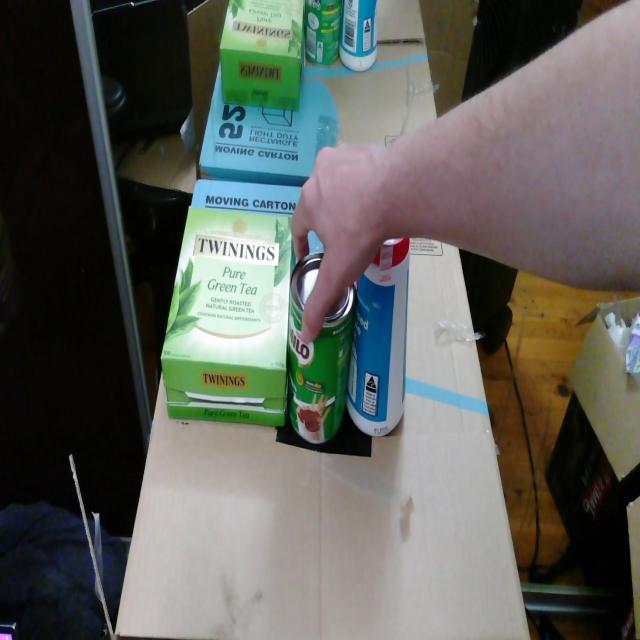nestle_milo_tin: (287, 253, 356, 443)
twinings_greentea_box: (161, 206, 296, 426)
woolworths_salt_bottle: (346, 238, 410, 436)
